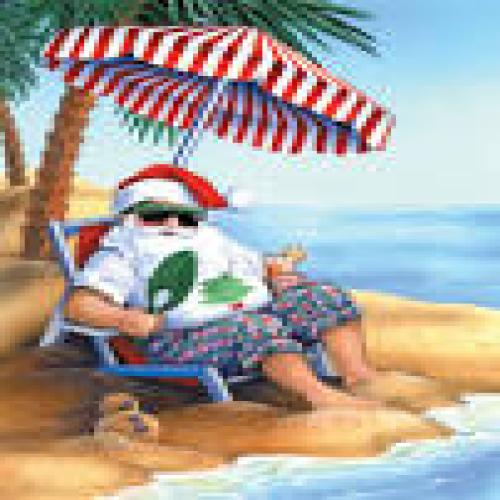Santa: (32, 165, 415, 412)
